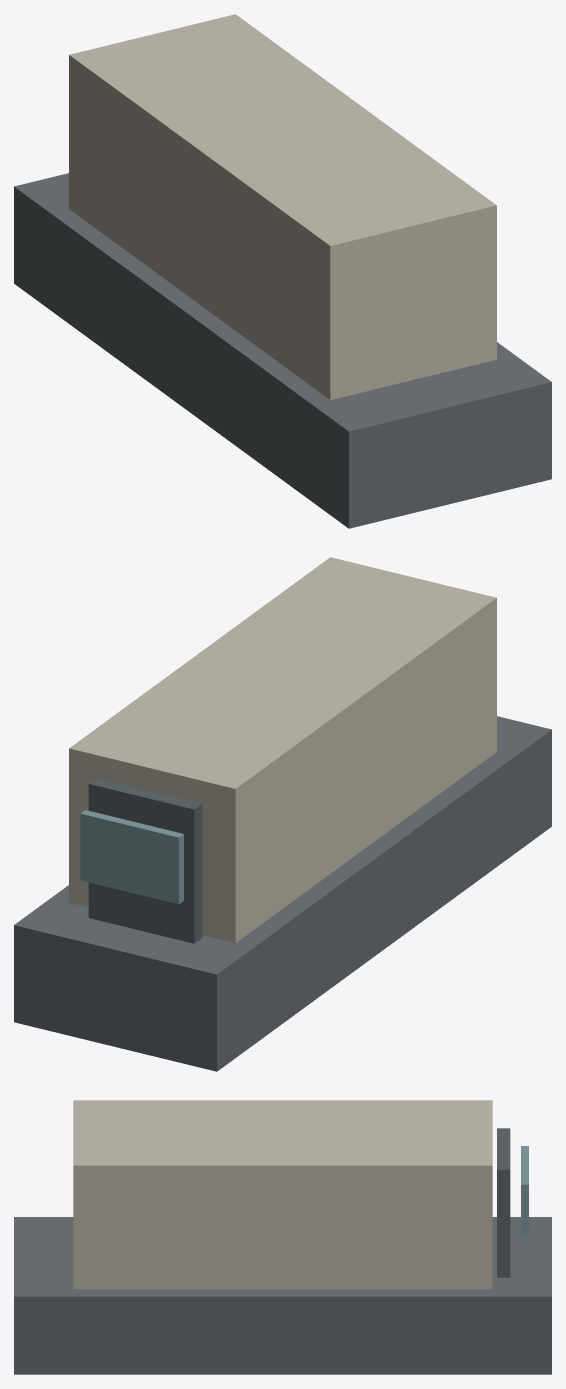
Rendered from iz3_health_stretcher_01.glb.
3 views of the same model, one above another, from view 1: azimuth 30°, elevation 25°; view 2: azimuth 150°, elevation 25°; view 3: azimuth 270°, elevation 25° (orthographic). The views are drawn at different scales.
Parts seen in each view (by area): view 1: cabinet, base; view 2: cabinet, base, panel, display; view 3: cabinet, base, panel, display.
Part boxes in pixels (x1,y1,x2,y2): cabinet: (69, 14, 496, 399); base: (14, 173, 551, 528); cabinet: (69, 557, 496, 942); base: (14, 716, 551, 1071); panel: (88, 777, 202, 943); display: (80, 810, 183, 904); cabinet: (73, 1100, 492, 1289); base: (14, 1217, 551, 1374); panel: (497, 1128, 510, 1277); display: (521, 1146, 528, 1238).
Bounding box in the file's own units: 0.7 × 0.828 × 2.
